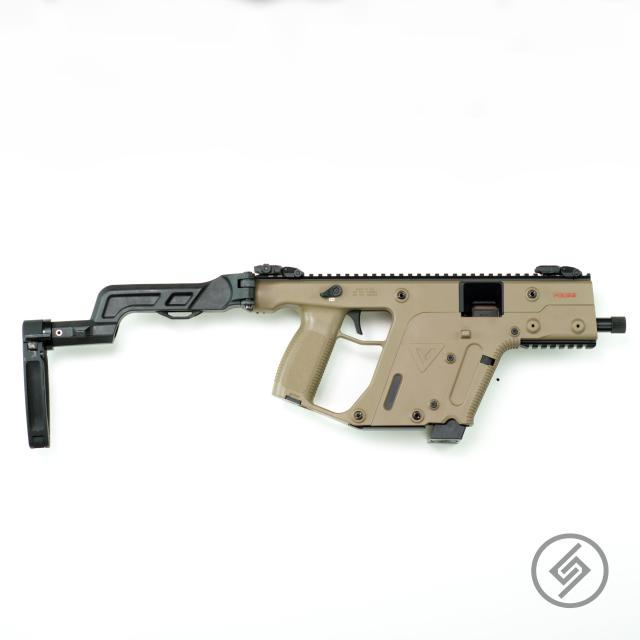SMG: (22, 265, 627, 448)
